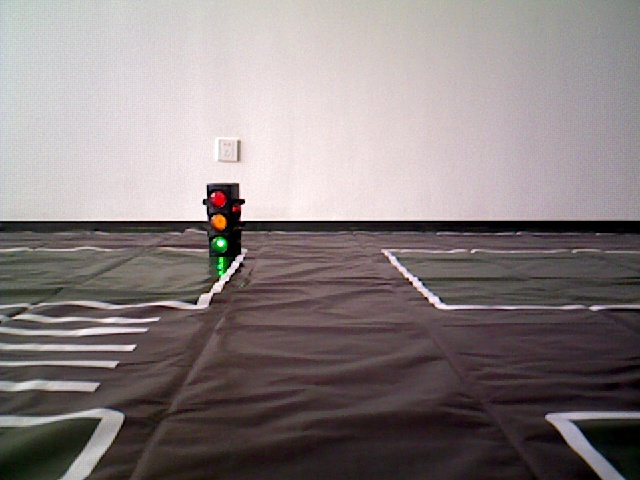green: (207, 185, 233, 249)
